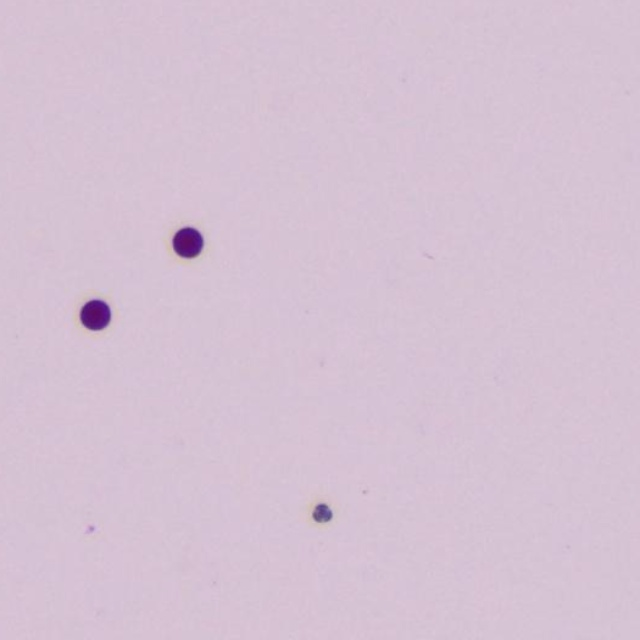non_viable: (312, 503, 332, 522)
viable: (80, 300, 110, 329), (173, 228, 202, 257)
